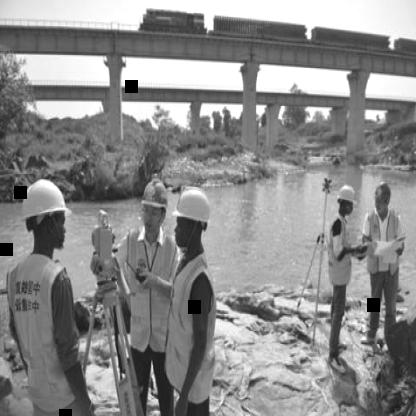helmet: (16, 172, 74, 258), (172, 184, 212, 250), (139, 176, 171, 236), (370, 179, 392, 221), (334, 184, 358, 218)
